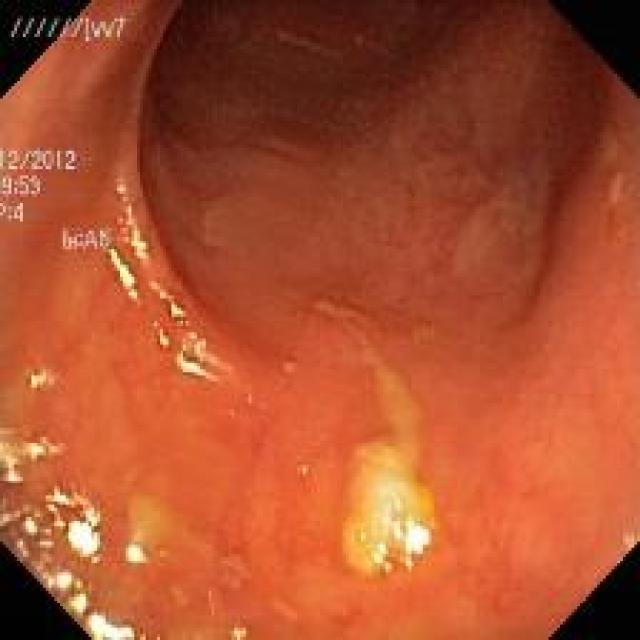ulcerative-colitis-grade-0-1: (334, 120, 541, 264)
